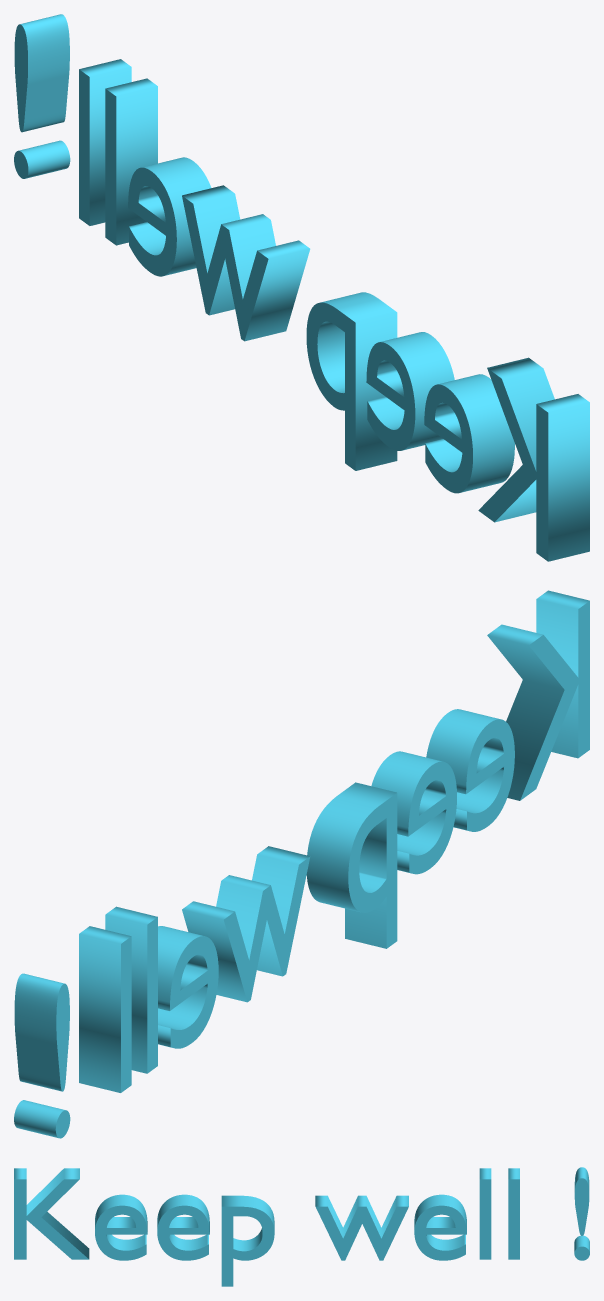
The model's file is keepwell.glb.
3 views of the same model, one above another, from view 1: azimuth 30°, elevation 25°; view 2: azimuth 150°, elevation 25°; view 3: azimuth 270°, elevation 25° (orthographic). The views are drawn at different scales.
Parts seen in each view (by area): view 1: 文本; view 2: 文本; view 3: 文本.
Part boxes in pixels (x1=…): 文本: x1=14, y1=14, x2=589, y2=561; 文本: x1=14, y1=590, x2=589, y2=1138; 文本: x1=14, y1=1167, x2=589, y2=1286.
Size of the model in its own units: 0.2 by 0.921 by 4.43.
